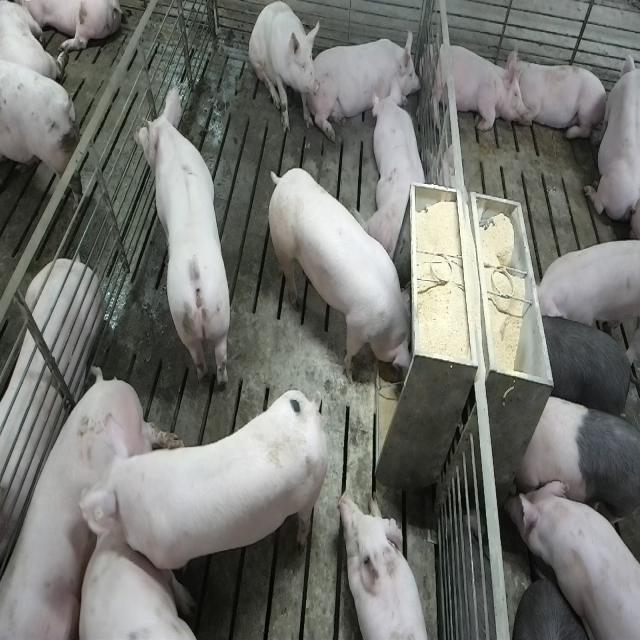Feeding: (272, 166, 422, 390)
Lateral_lying: (2, 362, 185, 636), (0, 257, 103, 619)
Sitting: (249, 2, 320, 137)
Standing: (80, 384, 327, 579), (134, 83, 234, 396), (502, 473, 638, 640), (514, 388, 638, 532), (77, 543, 217, 637), (536, 313, 638, 420), (529, 238, 637, 330)
Sternal_lying: (338, 491, 434, 640), (314, 26, 424, 138), (367, 83, 430, 263), (583, 42, 637, 233), (426, 36, 524, 135), (511, 51, 608, 145)
